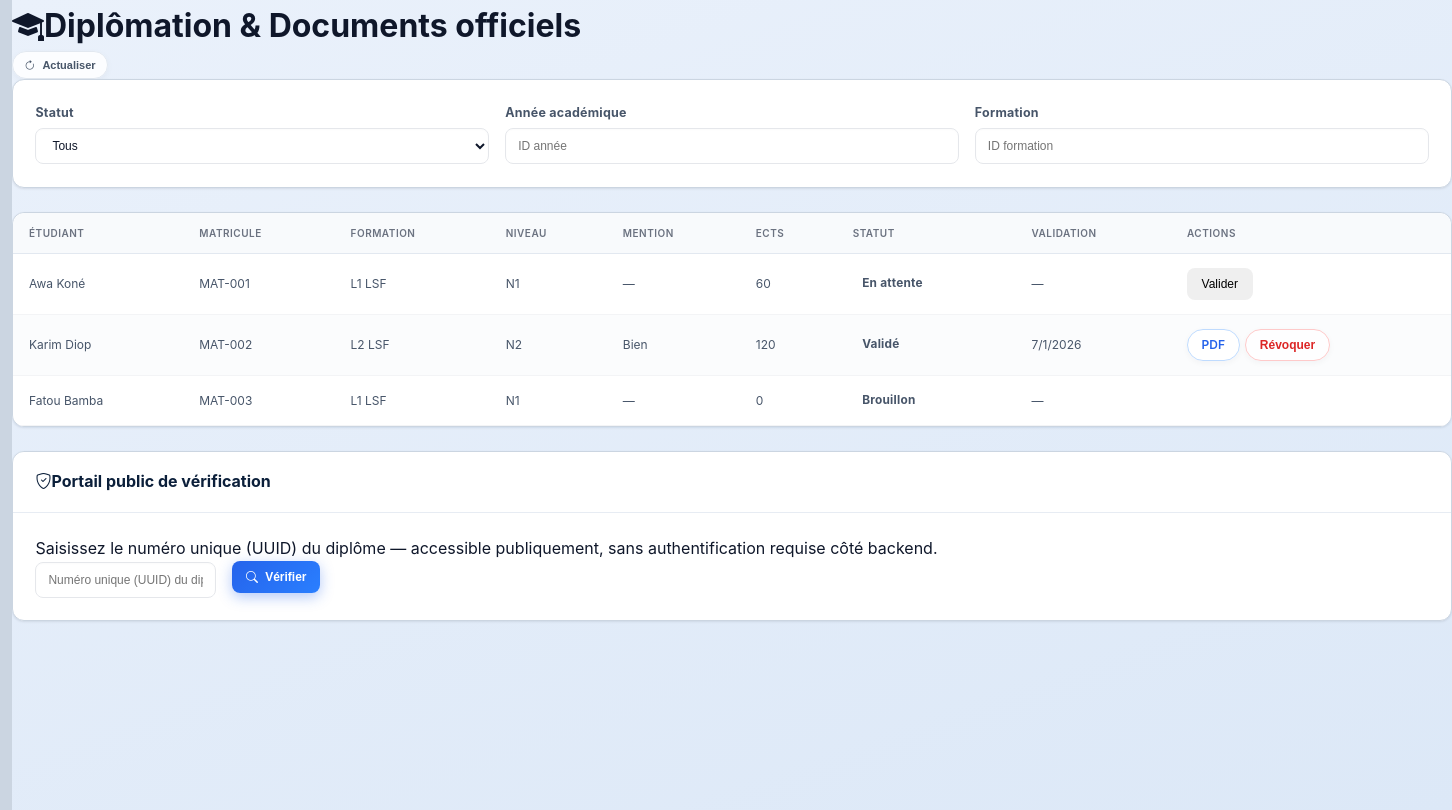
Test case: pages/scolarite/Graduation — validation et révocation › révoque un diplôme validé avec le motif obligatoire, notifie et recharge
The image size is (1452, 810).
Expected: the text "MAT-002" is shown, [183,314,335,376]
Click the button "Révoquer": point(1287, 345) [1245,328,1330,361]
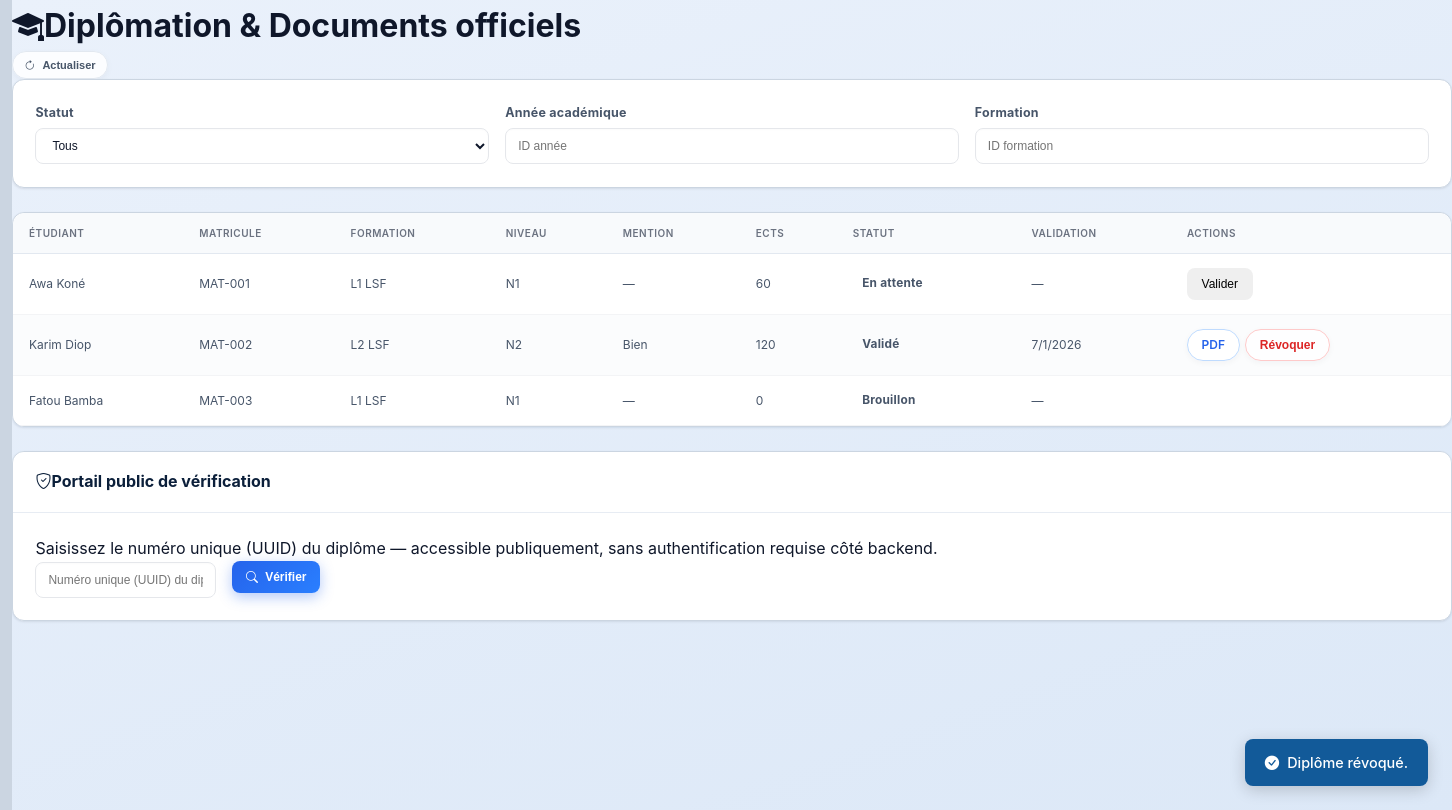
Result: the text "Diplôme révoqué." is shown at [1245,739,1428,786]
